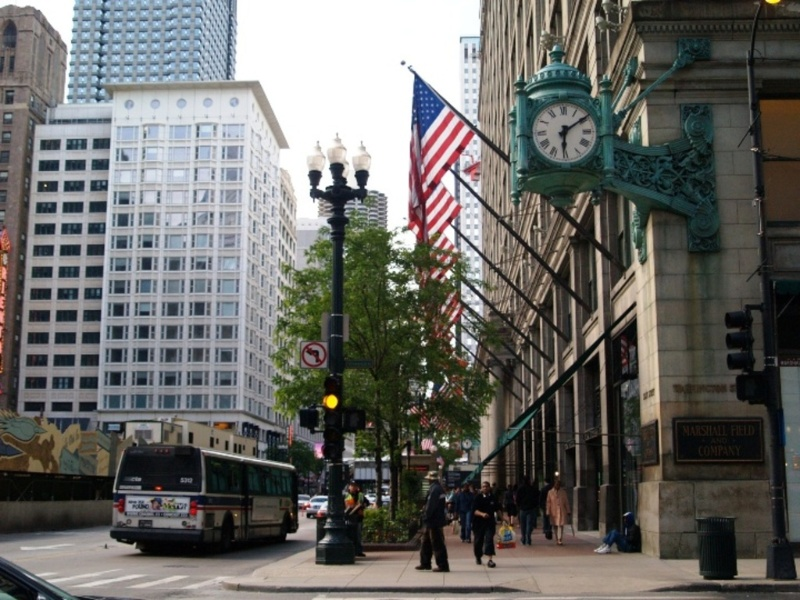no_left_turn: (291, 340, 337, 374)
yellow_light: (315, 387, 344, 414)
